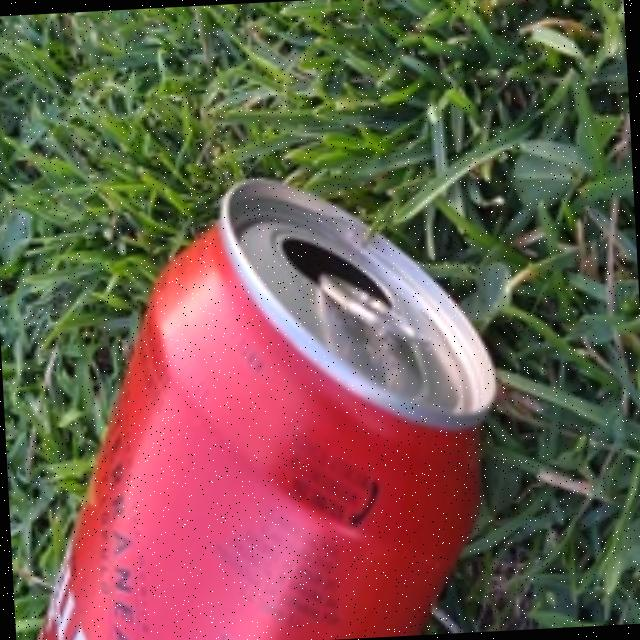Metal: (0, 163, 511, 640)
